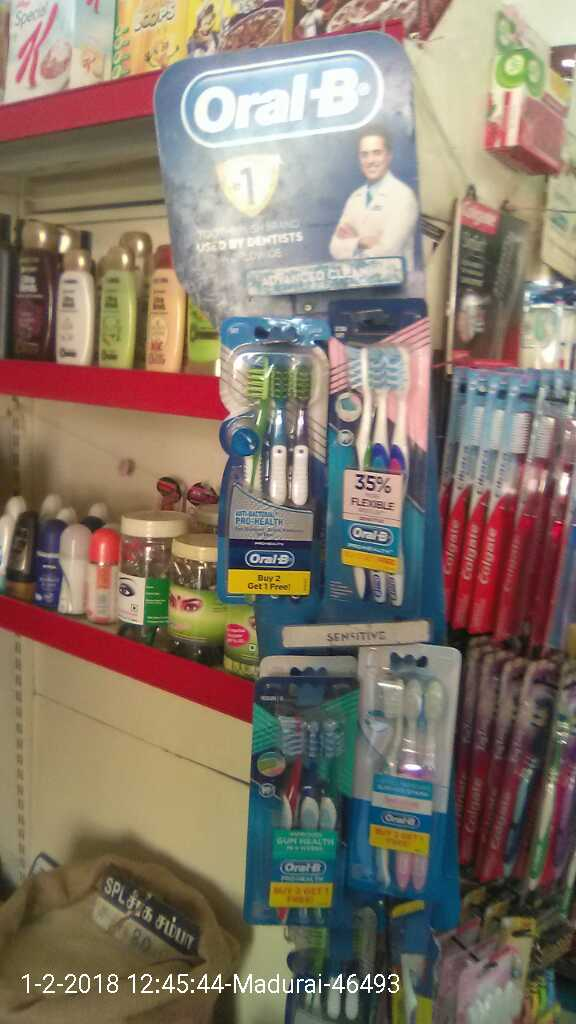oralb: (214, 319, 320, 598), (335, 314, 422, 619), (255, 682, 347, 925), (359, 661, 446, 904)
